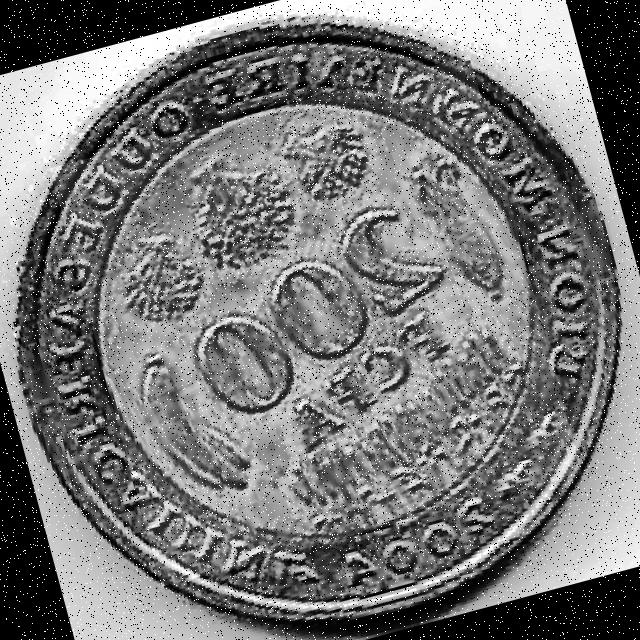nient fukk: (100, 106, 528, 536)
